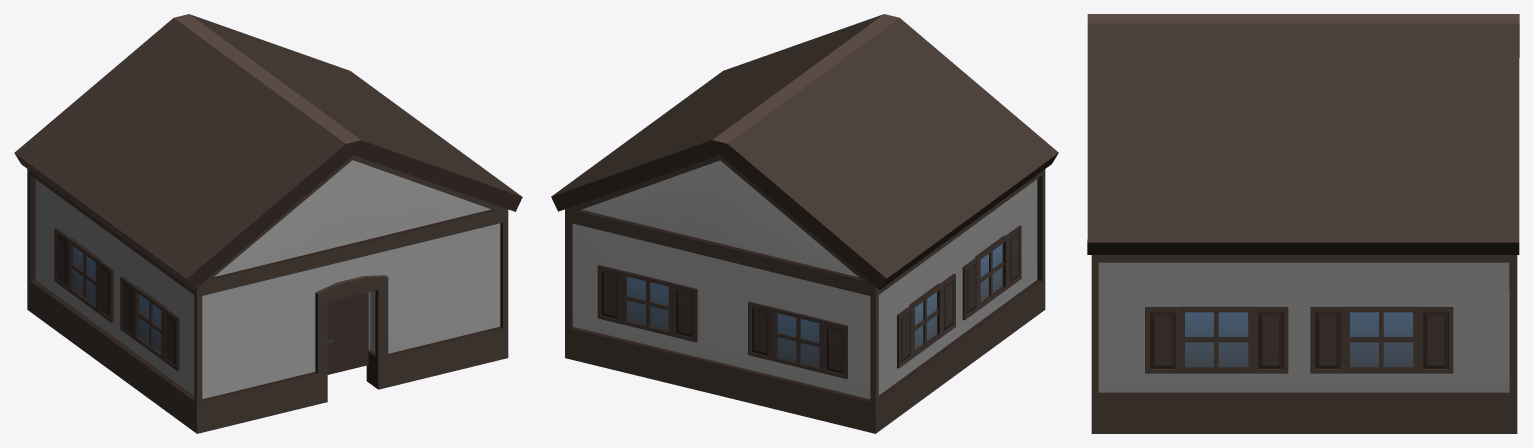
File: Residential_OldCottage_alt04.glb
3 views of the same model, side by side, from view 1: azimuth 30°, elevation 25°; view 2: azimuth 150°, elevation 25°; view 3: azimuth 270°, elevation 25° (orthographic). The views are drawn at different scales.
Visible parts, largest first — view 1: base.127, windowRefl.099; view 2: base.127, windowRefl.099; view 3: base.127, windowRefl.099.
Part boxes in pixels (left/top/right/bottom): base.127: left=14, top=14, right=522, bottom=433; windowRefl.099: left=73, top=246, right=161, bottom=352; base.127: left=551, top=14, right=1058, bottom=433; windowRefl.099: left=627, top=244, right=1002, bottom=366; base.127: left=1087, top=14, right=1519, bottom=433; windowRefl.099: left=1185, top=312, right=1412, bottom=367.
Size of the model in its own units: 9.71 by 7.05 by 8.63.
